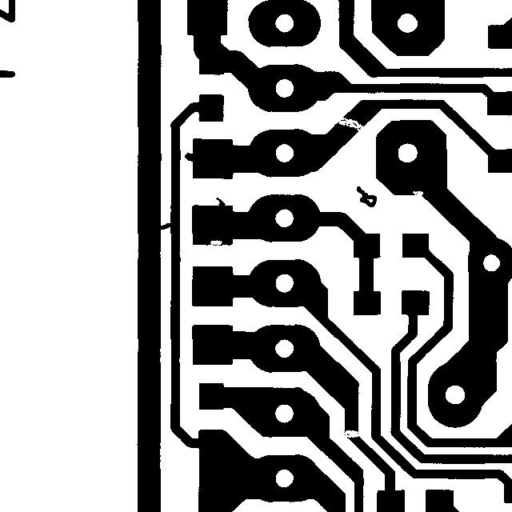copper: (349, 178, 384, 214)
mousebite: (202, 232, 230, 252), (405, 183, 430, 203)
open: (327, 110, 374, 140), (336, 422, 366, 445)
short: (149, 215, 179, 238)
spur: (208, 190, 233, 216), (177, 145, 204, 169)
